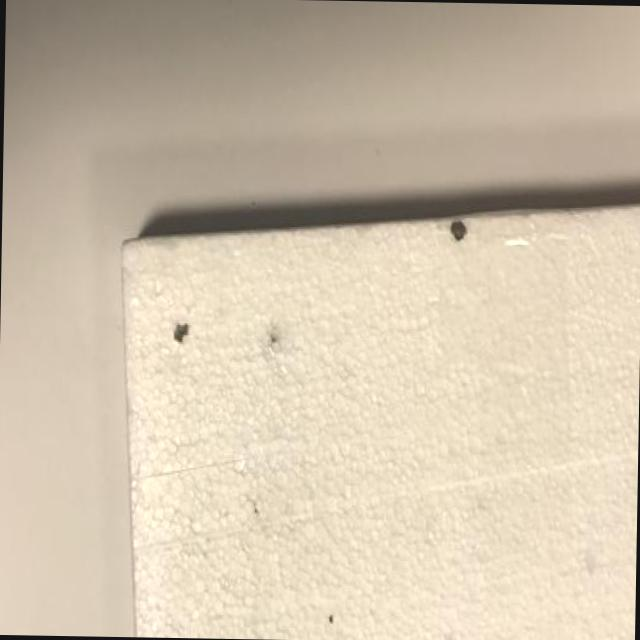xop: (121, 207, 640, 640)
